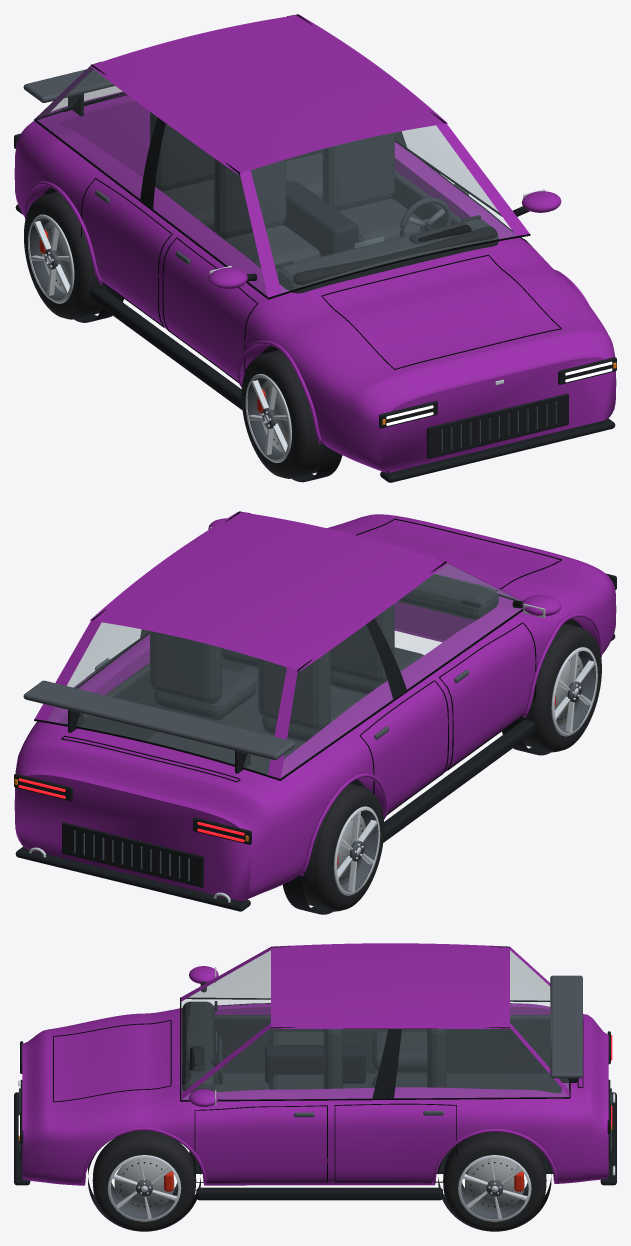
The model's file is rally.glb.
3 views of the same model, one above another, from view 1: azimuth 30°, elevation 25°; view 2: azimuth 150°, elevation 25°; view 3: azimuth 270°, elevation 25° (orthographic). The views are drawn at different scales.
Parts seen in each view (by area): view 1: Sculpted body shell.009, Painted roof.009, Windshield.009, Side glass.018, Interior dashboard.009, Interior seat back.027, Tire.038, Front grille housing.009, Interior seat back.026, Tire.036, Interior centre console.009, Rocker aero sill.018 (+32 smaller); view 2: Sculpted body shell.009, Painted roof.009, Side glass.018, Rear glass.009, Rear aero wing.003, Tire.036, Interior seat back.029, Rear diffuser grille.009, Tire.038, Interior seat back.028, Interior cabin floor.009, Rocker aero sill.018 (+30 smaller); view 3: Sculpted body shell.009, Side glass.019, Painted roof.009, Interior door card.018, Windshield.009, Tire.039, Tire.037, Rocker aero sill.019, Rear aero wing.003, Rear glass.009, Side glass.018, Interior cabin floor.009 (+27 smaller).
Boxes of the visible parts, x1=… form: Sculpted body shell.009: x1=14, y1=91, x2=616, y2=472; Painted roof.009: x1=98, y1=16, x2=438, y2=171; Windshield.009: x1=251, y1=125, x2=515, y2=292; Side glass.018: x1=36, y1=67, x2=266, y2=295; Interior dashboard.009: x1=278, y1=219, x2=498, y2=293; Interior seat back.027: x1=322, y1=132, x2=394, y2=210; Tire.038: x1=241, y1=350, x2=324, y2=478; Front grille housing.009: x1=427, y1=393, x2=568, y2=458; Interior seat back.026: x1=214, y1=158, x2=286, y2=238; Tire.036: x1=24, y1=191, x2=106, y2=319; Interior centre console.009: x1=282, y1=181, x2=358, y2=256; Rocker aero sill.018: x1=90, y1=287, x2=242, y2=410; Sculpted body shell.009: x1=14, y1=514, x2=616, y2=901; Painted roof.009: x1=99, y1=513, x2=439, y2=668; Side glass.018: x1=281, y1=564, x2=521, y2=777; Rear glass.009: x1=48, y1=622, x2=286, y2=774; Rear aero wing.003: x1=23, y1=680, x2=295, y2=760; Tire.036: x1=301, y1=783, x2=384, y2=911; Interior seat back.029: x1=150, y1=631, x2=222, y2=704; Rear diffuser grille.009: x1=62, y1=822, x2=203, y2=887; Tire.038: x1=519, y1=623, x2=601, y2=751; Interior seat back.028: x1=258, y1=650, x2=330, y2=730; Interior cabin floor.009: x1=145, y1=666, x2=366, y2=774; Rocker aero sill.018: x1=383, y1=719, x2=535, y2=842; Sculpted body shell.009: x1=22, y1=1003, x2=608, y2=1185; Side glass.019: x1=182, y1=1029, x2=568, y2=1099; Painted roof.009: x1=271, y1=944, x2=509, y2=1027; Interior door card.018: x1=214, y1=1015, x2=550, y2=1073; Windshield.009: x1=181, y1=951, x2=270, y2=1092; Tire.039: x1=92, y1=1130, x2=196, y2=1231; Tire.037: x1=443, y1=1132, x2=546, y2=1231; Rocker aero sill.019: x1=196, y1=1187, x2=442, y2=1200; Rear aero wing.003: x1=550, y1=975, x2=582, y2=1078; Rear glass.009: x1=510, y1=951, x2=568, y2=1089; Side glass.018: x1=189, y1=951, x2=549, y2=999; Interior cabin floor.009: x1=189, y1=1073, x2=560, y2=1159.
Bounding box in the file's own units: 2.38 × 1.6 × 4.43.
